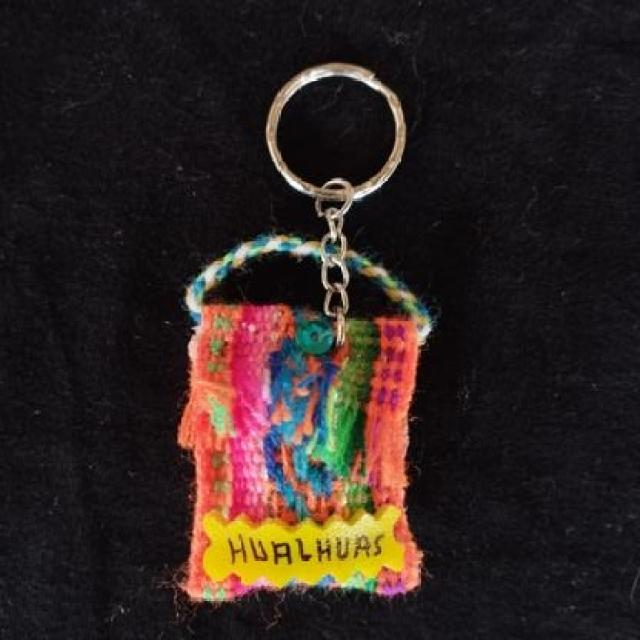Llavero: (175, 233, 434, 604)
